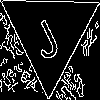J: (24, 9, 64, 62)
